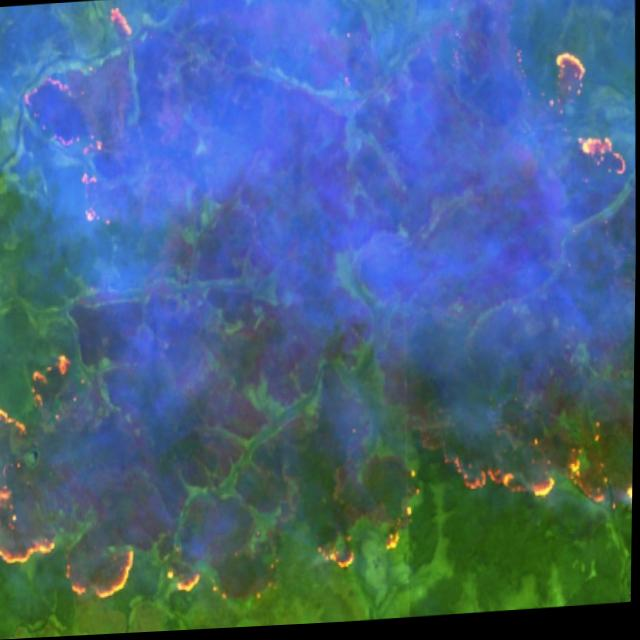fire: (0, 310, 636, 636), (15, 0, 152, 249), (528, 15, 638, 210)
